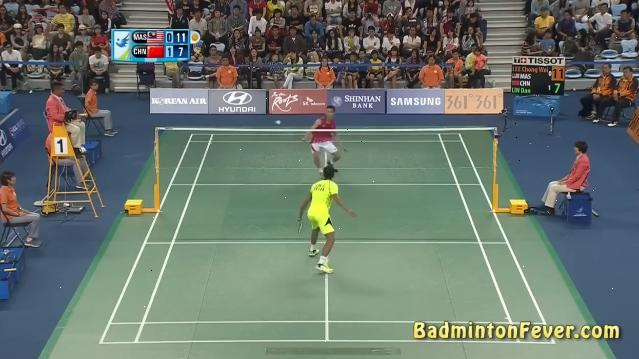Shuttlecock: (271, 118, 283, 126)
